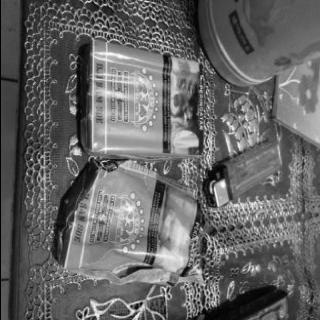objects: (56, 162, 202, 286), (78, 40, 202, 162)
